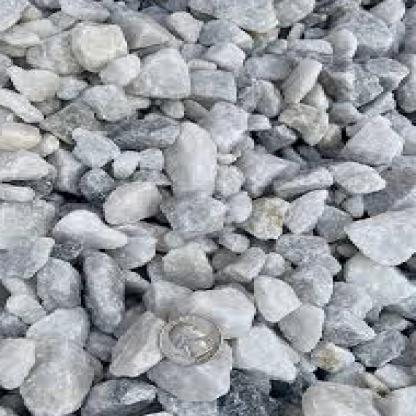Metamorphic_Marble: (328, 200, 416, 273), (160, 116, 225, 206), (175, 280, 272, 336), (340, 106, 410, 177), (120, 41, 197, 103), (15, 314, 105, 367), (63, 16, 138, 77), (42, 204, 129, 256), (232, 142, 298, 194), (278, 296, 331, 357), (238, 190, 296, 244), (2, 140, 61, 188), (162, 234, 212, 285)
